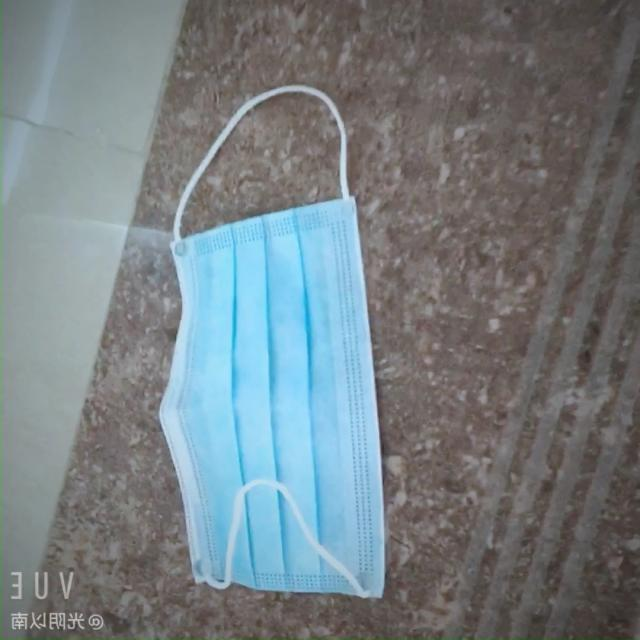face mask: (160, 196, 392, 594)
